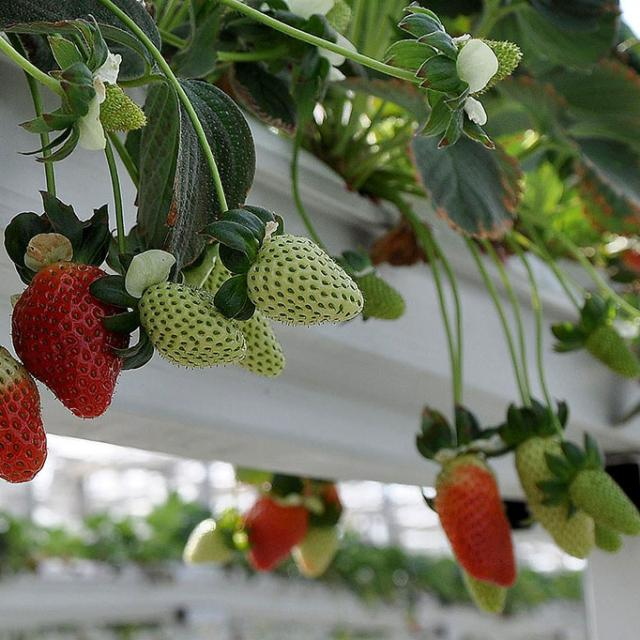Ripe Strawberry: (12, 251, 132, 420), (438, 456, 517, 588), (0, 344, 58, 486), (239, 492, 306, 572), (312, 478, 348, 518)
